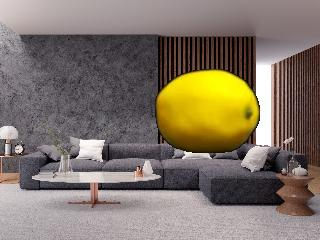lemon: (159, 71, 262, 153)
